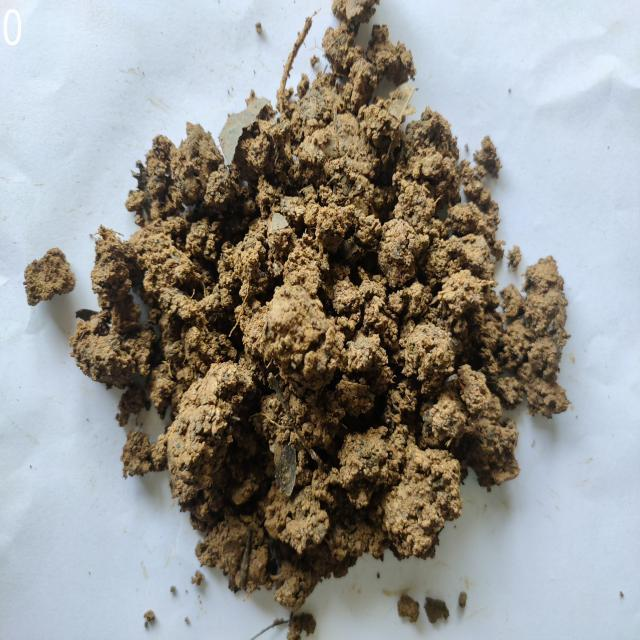soil: (203, 181, 458, 514)
